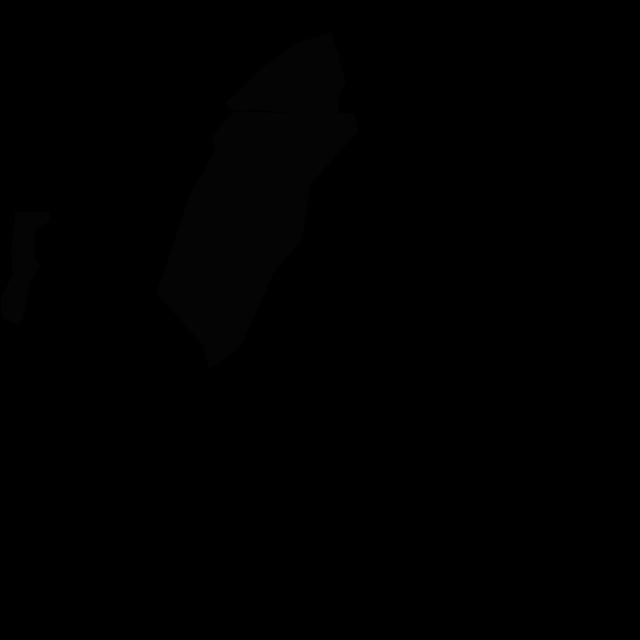soft_plastic: (156, 111, 310, 369), (225, 32, 359, 183), (1, 211, 50, 324)
